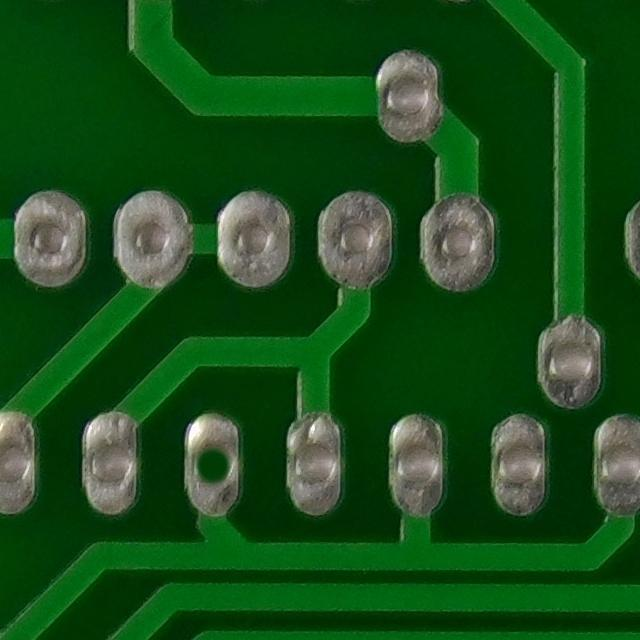missing_hole: (182, 427, 246, 507)
